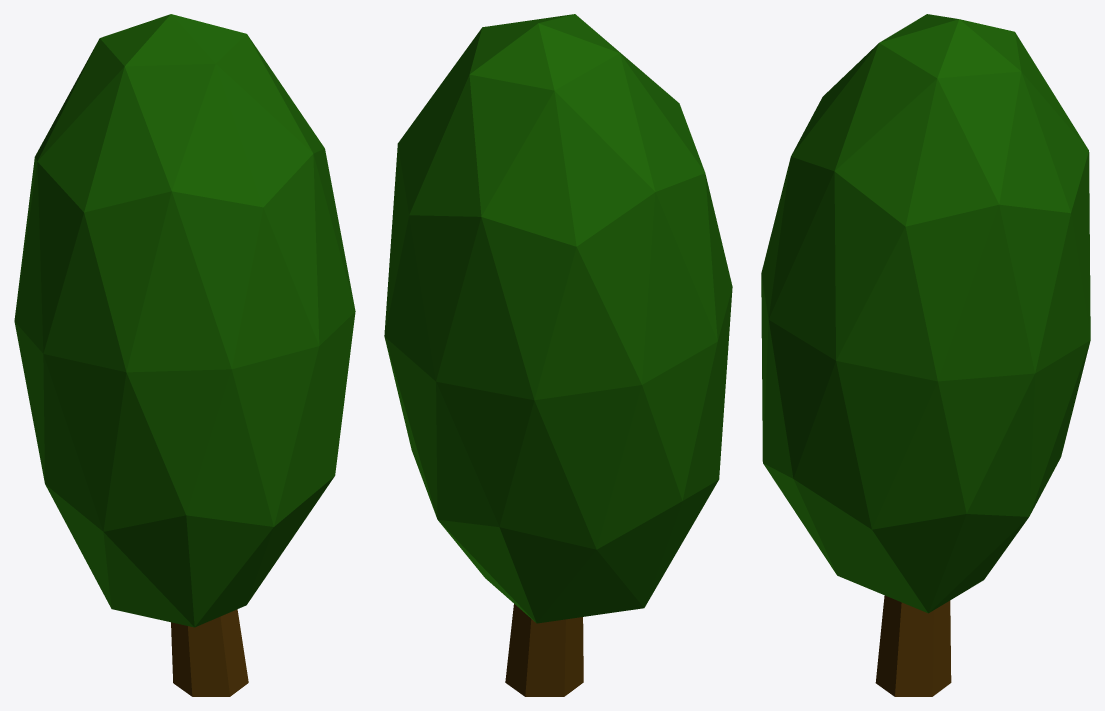
The model's file is tree1.glb.
3 views of the same model, side by side, from view 1: azimuth 30°, elevation 25°; view 2: azimuth 150°, elevation 25°; view 3: azimuth 270°, elevation 25° (orthographic). The views are drawn at different scales.
Parts seen in each view (by area): view 1: Cylinder.006; view 2: Cylinder.006; view 3: Cylinder.006.
Boxes of the visible parts, x1,y1,x2,y2 form: Cylinder.006: [14, 14, 355, 696]; Cylinder.006: [384, 14, 732, 696]; Cylinder.006: [761, 14, 1090, 696].
Size of the model in its own units: 4.35 by 9.25 by 4.21.
